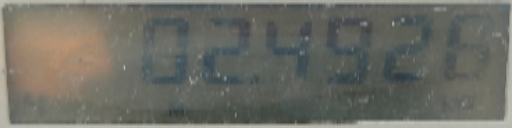0: (135, 1, 189, 88)
2: (381, 5, 437, 94), (199, 8, 249, 84)
4: (263, 7, 311, 94)
8: (441, 9, 495, 88)
9: (322, 10, 373, 90)
d: (247, 66, 263, 88)
